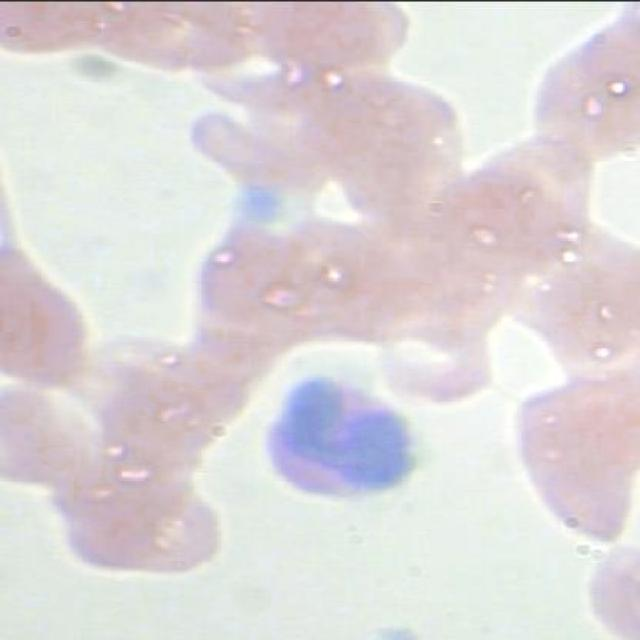Platelets: (232, 180, 282, 232), (372, 612, 430, 638)
RBC: (504, 376, 639, 546), (291, 76, 467, 190), (44, 488, 222, 578), (242, 1, 418, 84), (97, 1, 272, 84), (1, 236, 93, 390), (372, 304, 505, 402), (514, 63, 638, 168), (420, 182, 552, 280), (461, 125, 594, 222), (191, 220, 306, 332), (0, 376, 103, 490), (0, 1, 126, 65)
WBC: (249, 358, 425, 524)
